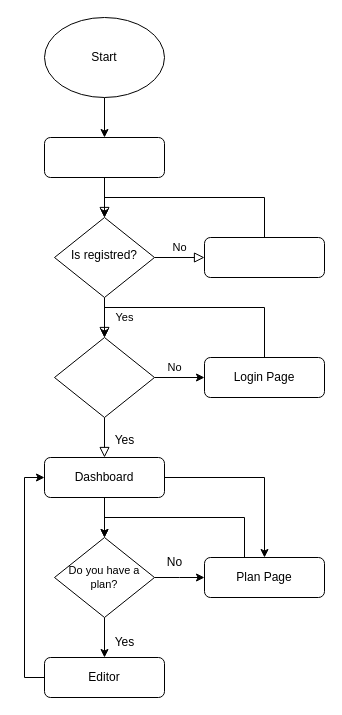
This 342x715 diagram has some shape labels left out. The centre of each missing label's shape, as x and y in pixels:
"Is Logged in?" goes at point 104,377.
"Landing Page" goes at point 104,157.
"Register Page" goes at point 264,257.
